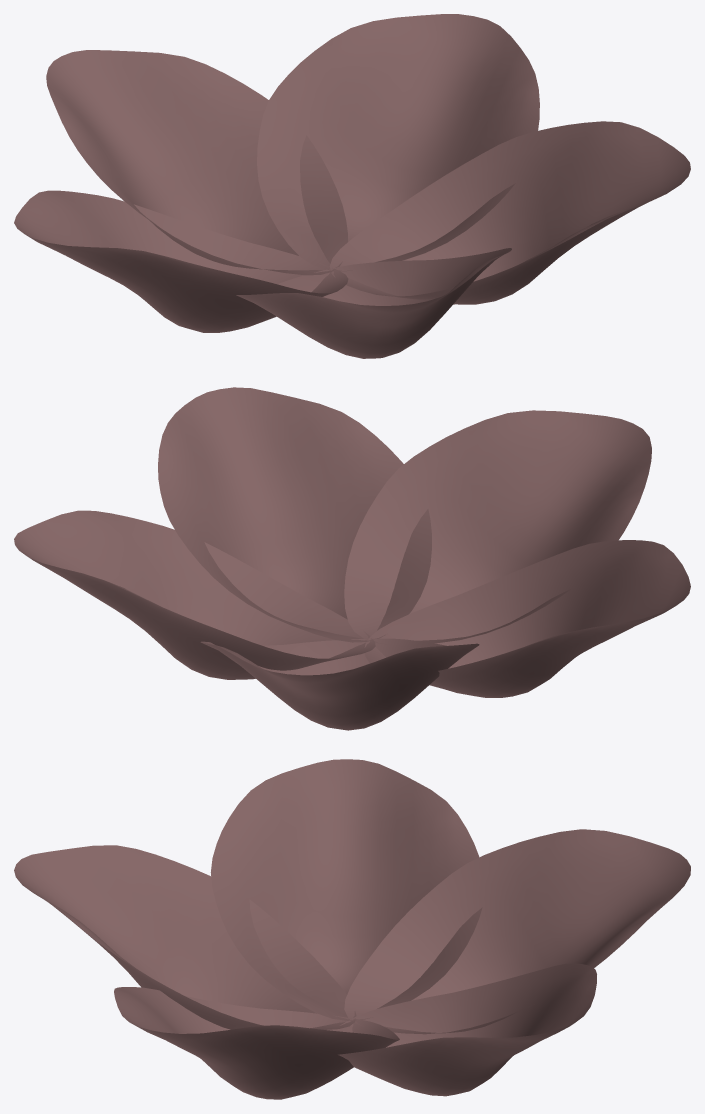
Rendered from petal.obj.
3 views of the same model, one above another, from view 1: azimuth 30°, elevation 25°; view 2: azimuth 150°, elevation 25°; view 3: azimuth 270°, elevation 25° (orthographic).
Parts seen in each view (by area): view 1: pPlane10, pPlane11, pPlane9, pPlane1, pPlane8; view 2: pPlane8, pPlane9, pPlane10, pPlane1, pPlane11; view 3: pPlane1, pPlane11, pPlane8, pPlane10, pPlane9.
Boxes of the visible parts, bbox=[...] form: pPlane10: bbox=[257, 14, 539, 271]; pPlane11: bbox=[46, 50, 347, 275]; pPlane9: bbox=[329, 121, 690, 304]; pPlane1: bbox=[14, 190, 348, 332]; pPlane8: bbox=[236, 248, 511, 358]; pPlane8: bbox=[344, 410, 651, 644]; pPlane9: bbox=[158, 387, 431, 642]; pPlane10: bbox=[14, 510, 375, 679]; pPlane1: bbox=[364, 540, 690, 697]; pPlane11: bbox=[200, 638, 479, 730]; pPlane1: bbox=[210, 759, 482, 1020]; pPlane11: bbox=[344, 829, 690, 1034]; pPlane8: bbox=[14, 845, 356, 1029]; pPlane10: bbox=[333, 963, 596, 1096]; pPlane9: bbox=[114, 987, 399, 1099].
Bounding box in the file's own units: 1.7 × 0.4026 × 1.77.
